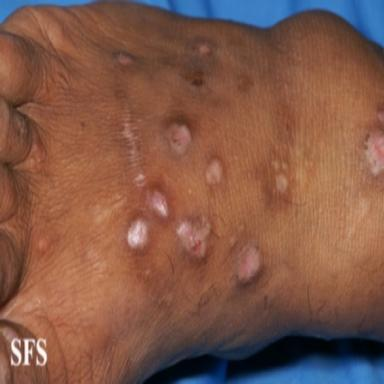Epidermolysis-Bullosa-Pruriginosa: (120, 117, 146, 188), (176, 217, 211, 258), (365, 110, 384, 176), (238, 243, 262, 283), (167, 125, 191, 155), (127, 218, 148, 249), (148, 191, 167, 218), (205, 158, 223, 185), (113, 49, 135, 66), (193, 44, 211, 58), (276, 173, 288, 193)
